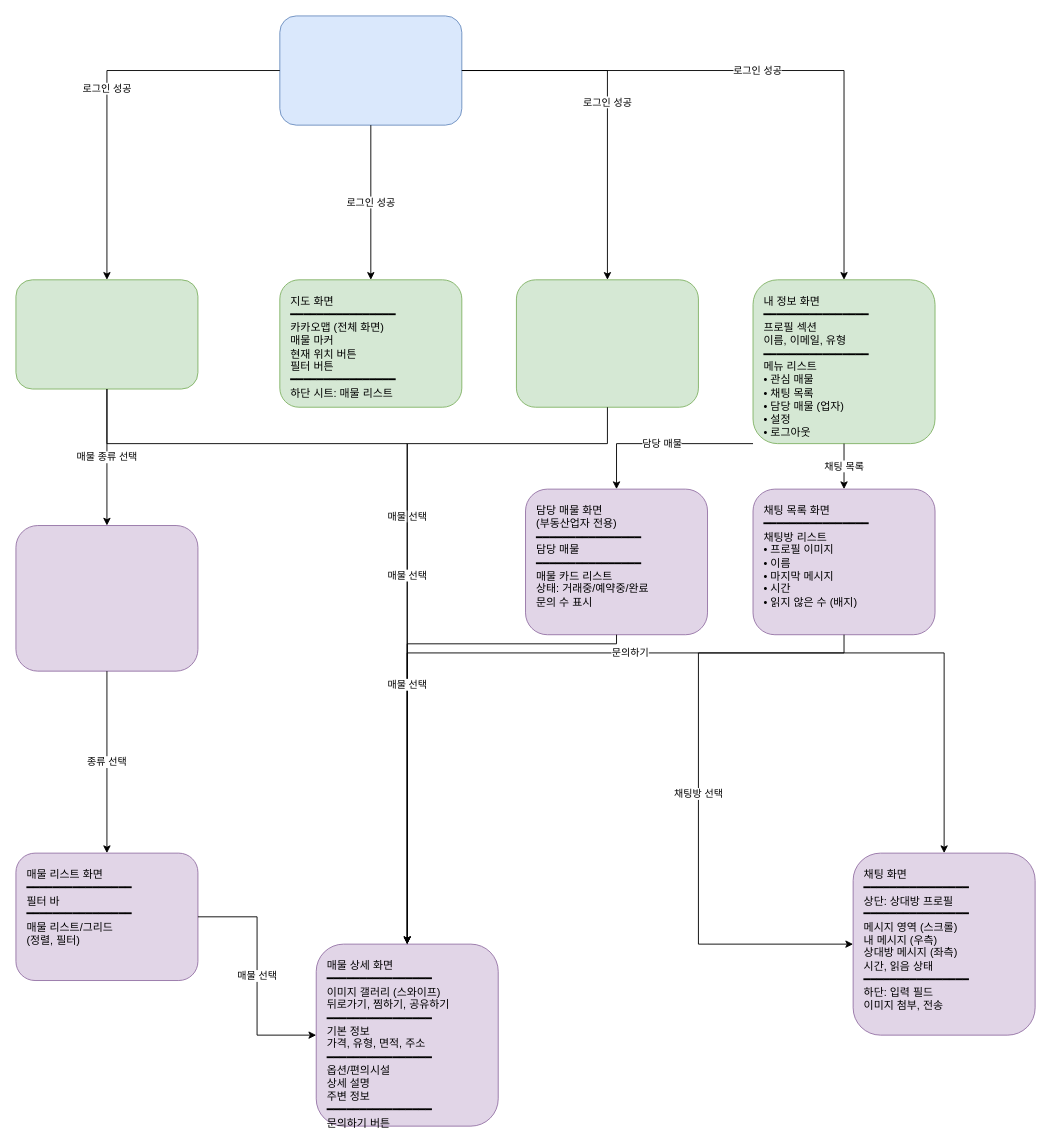
The diagram is 1051 pixels wide and 1146 high, and some of its shapes have lost their labels. The shapes that lost their labels are listed below. From the top down, each one's centre as x and y in pixels, then its label:
At (x=370, y=70): "로그인 화면 ━━━━━━━━━━━━━━━━ 앱 로고 ━━━━━━━━━━━━━━━━ 구글 로그인 버튼 ━━━━━━━━━━━━━━━━ 이용약관 링크".
At (x=106, y=334): "홈 화면 ━━━━━━━━━━━━━━━━ 매물 종류 선택".
At (x=607, y=343): "찜 화면 ━━━━━━━━━━━━━━━━ 관심 매물 ━━━━━━━━━━━━━━━━ 매물 카드 리스트 (정렬 버튼)".
At (x=106, y=598): "매물 종류 선택 화면 ━━━━━━━━━━━━━━━━ 매물 종류 선택 • 원룸 • 투룸 • 쓰리룸 • 오피스텔 • 아파트 • 기타".
